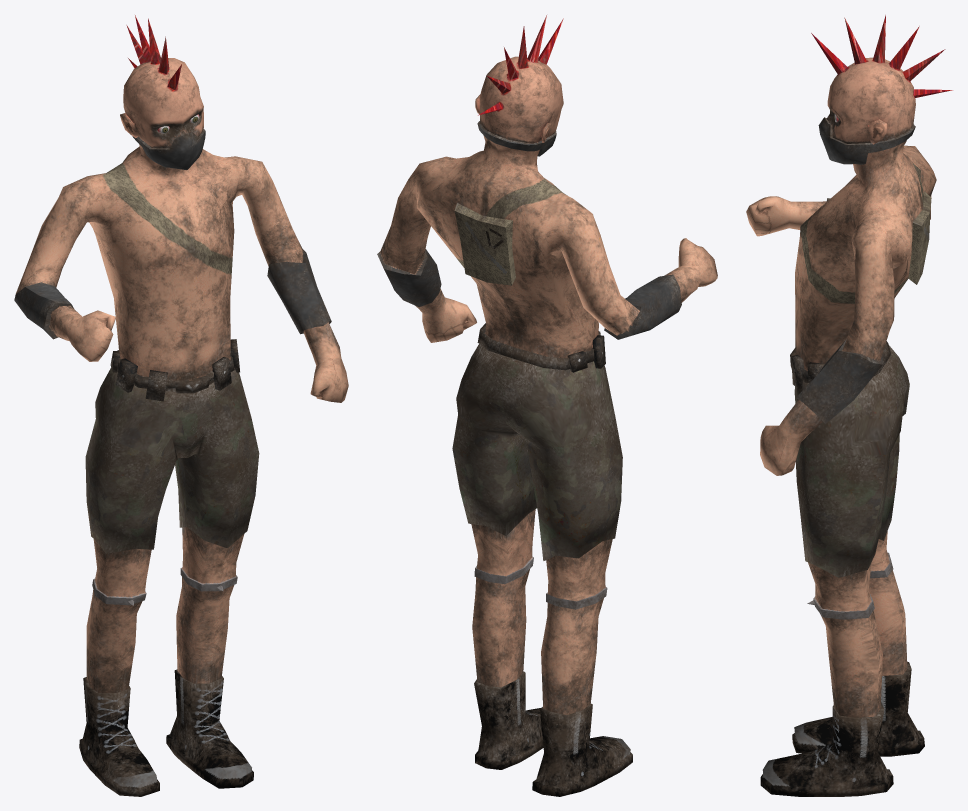
File: Anim_perder_1_npc2.0054.obj
3 views of the same model, side by side, from view 1: azimuth 30°, elevation 25°; view 2: azimuth 150°, elevation 25°; view 3: azimuth 270°, elevation 25° (orthographic). The views are drawn at different scales.
Visible parts, largest first — view 1: polySurface1; view 2: polySurface1; view 3: polySurface1.
Part boxes in pixels (x1,y1,x2,y2): polySurface1: [14, 15, 348, 796]; polySurface1: [377, 15, 717, 796]; polySurface1: [746, 15, 952, 796].
Bounding box in the file's own units: 4.03 × 10.12 × 2.52.
